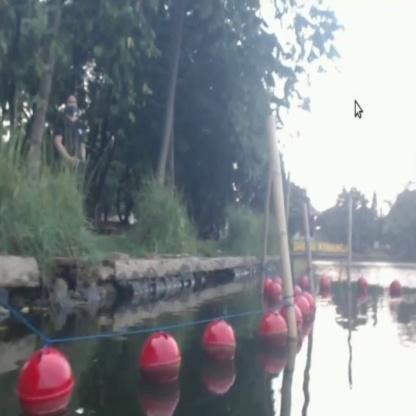red_buoy: (22, 345, 76, 414), (144, 334, 180, 381), (205, 322, 233, 362), (262, 312, 287, 352), (300, 290, 317, 322), (319, 273, 331, 293), (270, 283, 280, 304), (389, 279, 401, 295), (360, 275, 369, 295)
